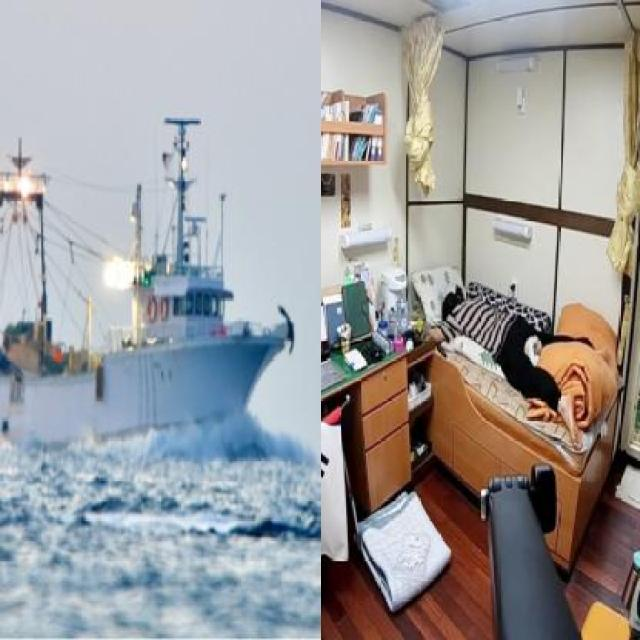fish-b: (1, 108, 301, 462)
